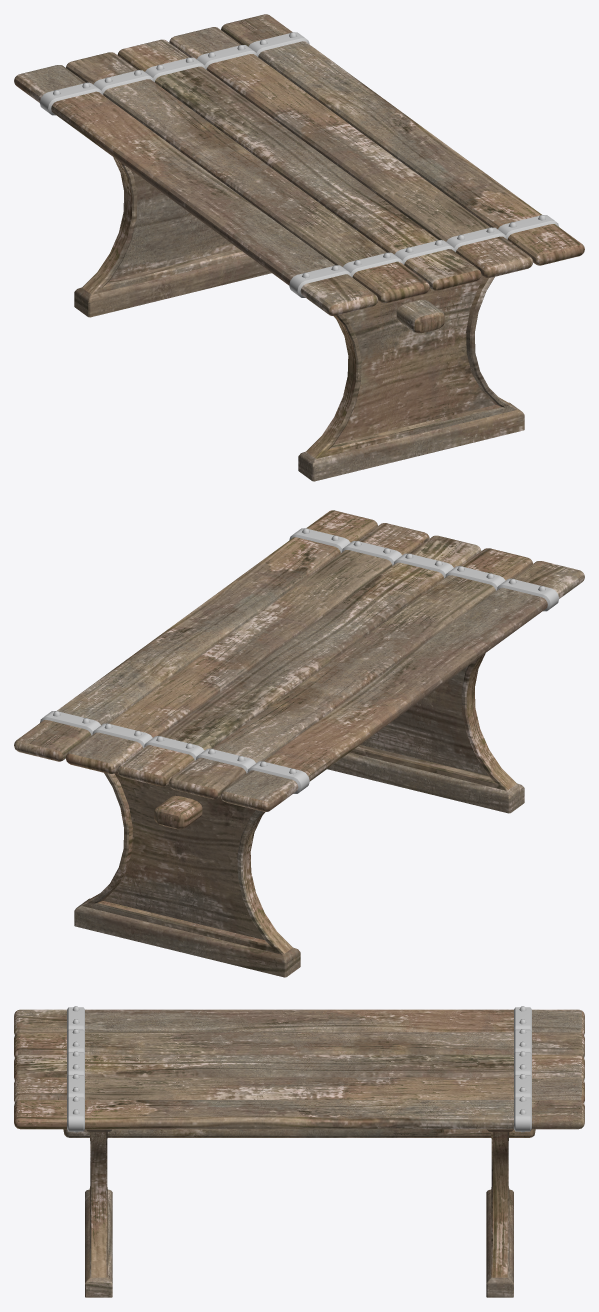
Rendered from SM_Table_Rectangle.fbx.
3 views of the same model, one above another, from view 1: azimuth 30°, elevation 25°; view 2: azimuth 150°, elevation 25°; view 3: azimuth 270°, elevation 25° (orthographic). The views are drawn at different scales.
Visible parts, largest first — view 1: SM_Table_Rectangle_LOD0; view 2: SM_Table_Rectangle_LOD0; view 3: SM_Table_Rectangle_LOD0.
Part boxes in pixels (bbox=[...]): SM_Table_Rectangle_LOD0: bbox=[14, 14, 584, 481]; SM_Table_Rectangle_LOD0: bbox=[14, 510, 584, 977]; SM_Table_Rectangle_LOD0: bbox=[14, 1006, 584, 1297].
Bounding box in the file's own units: 103 × 218 × 81.15.
